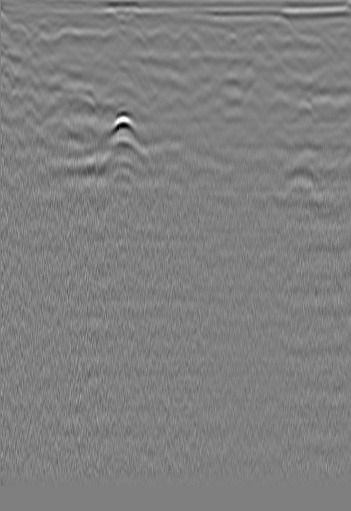가스: (97, 140, 146, 182)
상수: (20, 24, 51, 59)
오수: (299, 29, 319, 49)
우수: (151, 23, 171, 43)
